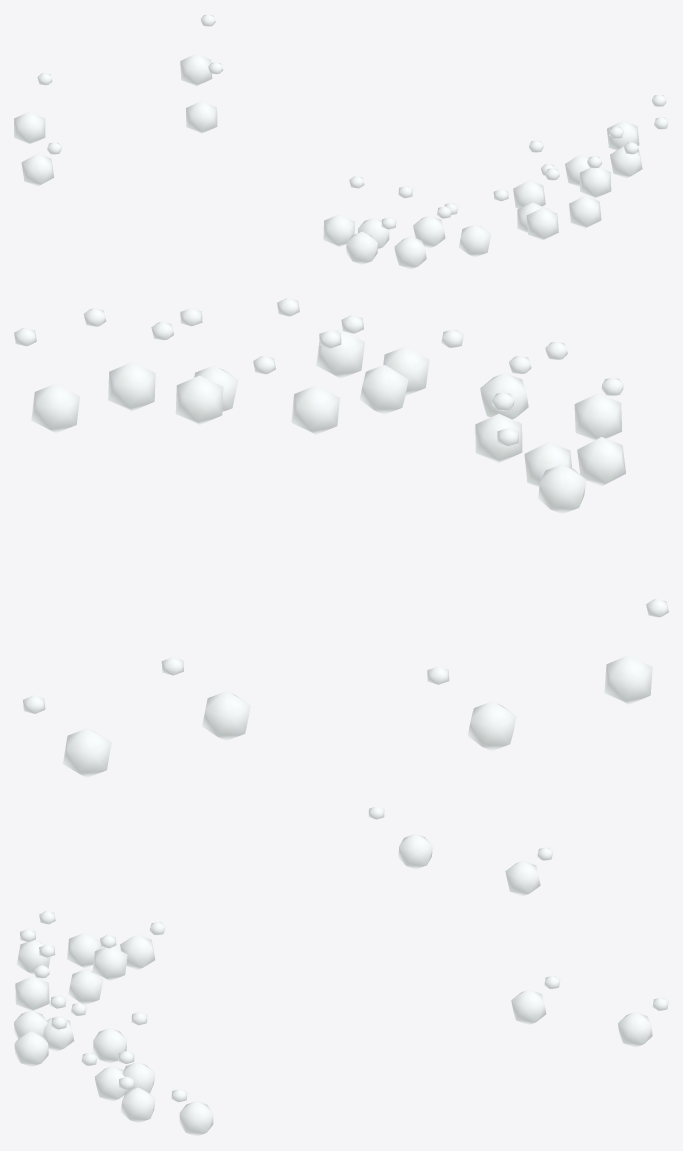
File: model_chunk_2.glb
3 views of the same model, one above another, from view 1: azimuth 30°, elevation 25°; view 2: azimuth 150°, elevation 25°; view 3: azimuth 270°, elevation 25° (orthographic). The views are drawn at different scales.
Visible parts, largest first — view 1: SplashParticle01419, SplashParticle01444, SplashParticle01470, SplashParticle01478, SplashParticle01386, SplashParticle01453, SplashParticle01491, SplashParticle01393, SplashParticle01408, SplashParticle01401, SplashParticle01388, SplashParticle01495 (+6 smaller); view 2: SplashParticle01495, SplashParticle01492, SplashParticle01408, SplashParticle01476, SplashParticle01393, SplashParticle01498, SplashParticle01386, SplashParticle01453, SplashParticle01388, SplashParticle01419, SplashParticle01444, SplashParticle01472 (+6 smaller); view 3: SplashParticle01401, SplashParticle01498, SplashParticle01408, SplashParticle01453, SplashParticle01478, SplashParticle01495, SplashParticle01398, SplashParticle01419, SplashParticle01444, SplashParticle01403, SplashParticle01476, SplashParticle01388 (+6 smaller).
Boxes of the visible parts, x1,y1,x2,y2 form: SplashParticle01419: (14, 73, 52, 144); SplashParticle01444: (186, 62, 223, 133); SplashParticle01470: (526, 168, 559, 240); SplashParticle01478: (569, 156, 601, 228); SplashParticle01386: (346, 217, 396, 264); SplashParticle01453: (180, 14, 215, 86); SplashParticle01491: (579, 142, 638, 198); SplashParticle01393: (394, 206, 451, 269); SplashParticle01408: (21, 142, 61, 186); SplashParticle01401: (458, 189, 508, 257); SplashParticle01388: (323, 176, 364, 247); SplashParticle01495: (610, 117, 668, 178); SplashParticle01495: (83, 308, 155, 411); SplashParticle01492: (151, 322, 223, 424); SplashParticle01408: (604, 599, 668, 704); SplashParticle01476: (253, 356, 339, 434); SplashParticle01393: (545, 341, 622, 440); SplashParticle01498: (14, 328, 79, 433); SplashParticle01386: (577, 377, 625, 486); SplashParticle01453: (23, 695, 111, 777); SplashParticle01388: (497, 428, 586, 513); SplashParticle01419: (427, 666, 516, 750); SplashParticle01444: (161, 657, 250, 740); SplashParticle01472: (319, 330, 408, 414); SplashParticle01401: (15, 965, 49, 1010); SplashParticle01498: (171, 1089, 213, 1136); SplashParticle01408: (368, 806, 432, 869); SplashParticle01453: (618, 997, 668, 1047); SplashParticle01478: (14, 1016, 67, 1066); SplashParticle01495: (119, 1076, 155, 1123); SplashParticle01398: (92, 935, 127, 980); SplashParticle01419: (505, 847, 553, 896); SplashParticle01444: (511, 976, 560, 1024); SplashParticle01403: (39, 944, 103, 1004); SplashParticle01476: (93, 1012, 147, 1063); SplashParticle01388: (120, 922, 165, 970).
Size of the model in its own units: 0.7546 by 0.1303 by 0.743.
Materials: 1 (1 with a texture image).
